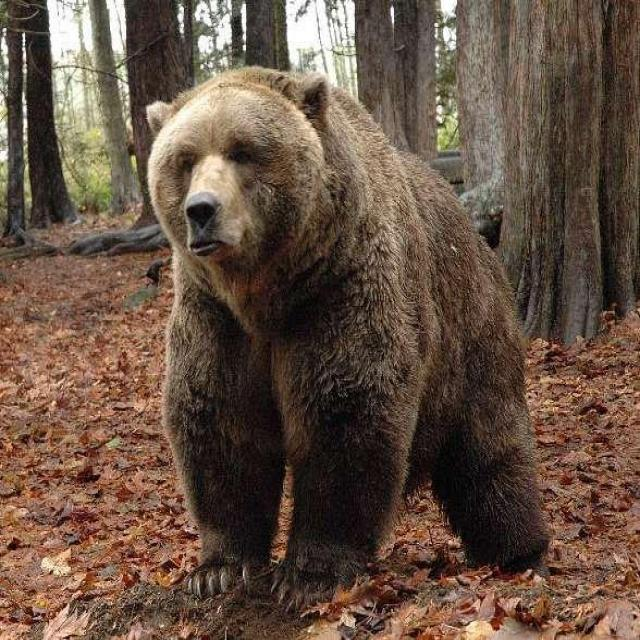Bear: (145, 68, 551, 609)
